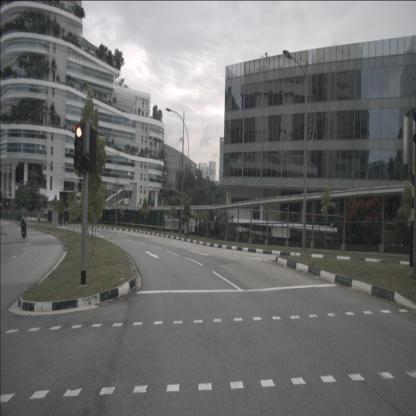human-pedestrian-adult: (210, 217, 215, 240), (197, 217, 202, 238), (215, 218, 219, 239), (194, 218, 198, 237), (109, 212, 112, 226), (113, 212, 116, 226)
vehicle-motorcycle: (20, 217, 28, 240)
